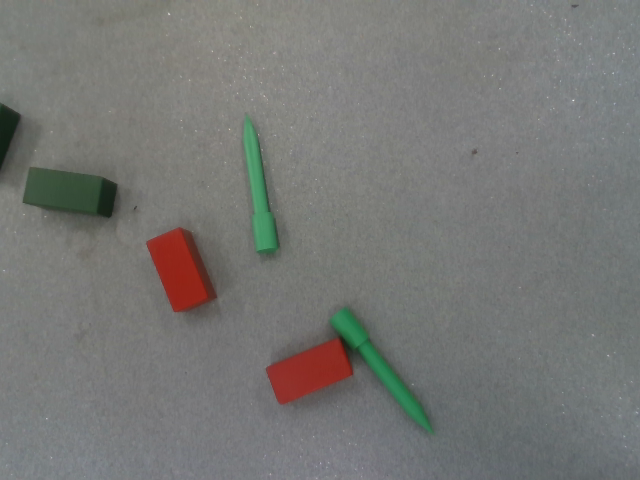Probe: (327, 303, 434, 434), (238, 114, 283, 255)
